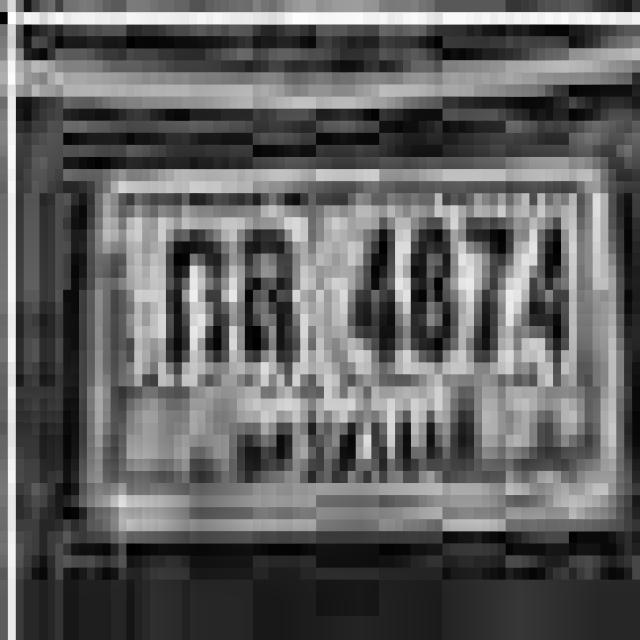license-plate: (58, 108, 640, 586)
